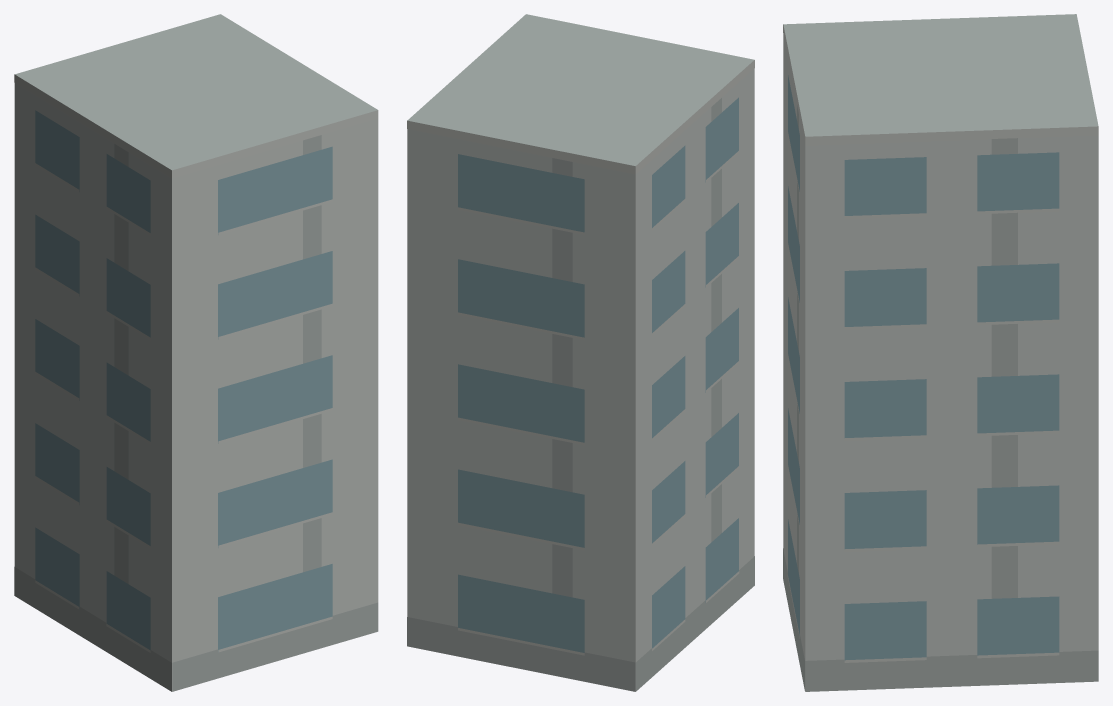
The model's file is residential-220d8282-f61d-4205-9a2e-dfc0e67a4172.glb.
3 views of the same model, side by side, from view 1: azimuth 30°, elevation 25°; view 2: azimuth 150°, elevation 25°; view 3: azimuth 270°, elevation 25° (orthographic). The views are drawn at different scales.
Visible parts, largest first — view 1: residential-220d8282-f61d-4205-9a2e-dfc0e67a4172.tmp; view 2: residential-220d8282-f61d-4205-9a2e-dfc0e67a4172.tmp; view 3: residential-220d8282-f61d-4205-9a2e-dfc0e67a4172.tmp.
Boxes of the visible parts, x1,y1,x2,y2 form: residential-220d8282-f61d-4205-9a2e-dfc0e67a4172.tmp: (14,14,378,691); residential-220d8282-f61d-4205-9a2e-dfc0e67a4172.tmp: (407,14,754,691); residential-220d8282-f61d-4205-9a2e-dfc0e67a4172.tmp: (783,14,1098,691).
Size of the model in its own units: 7.24 by 15.25 by 7.86.
